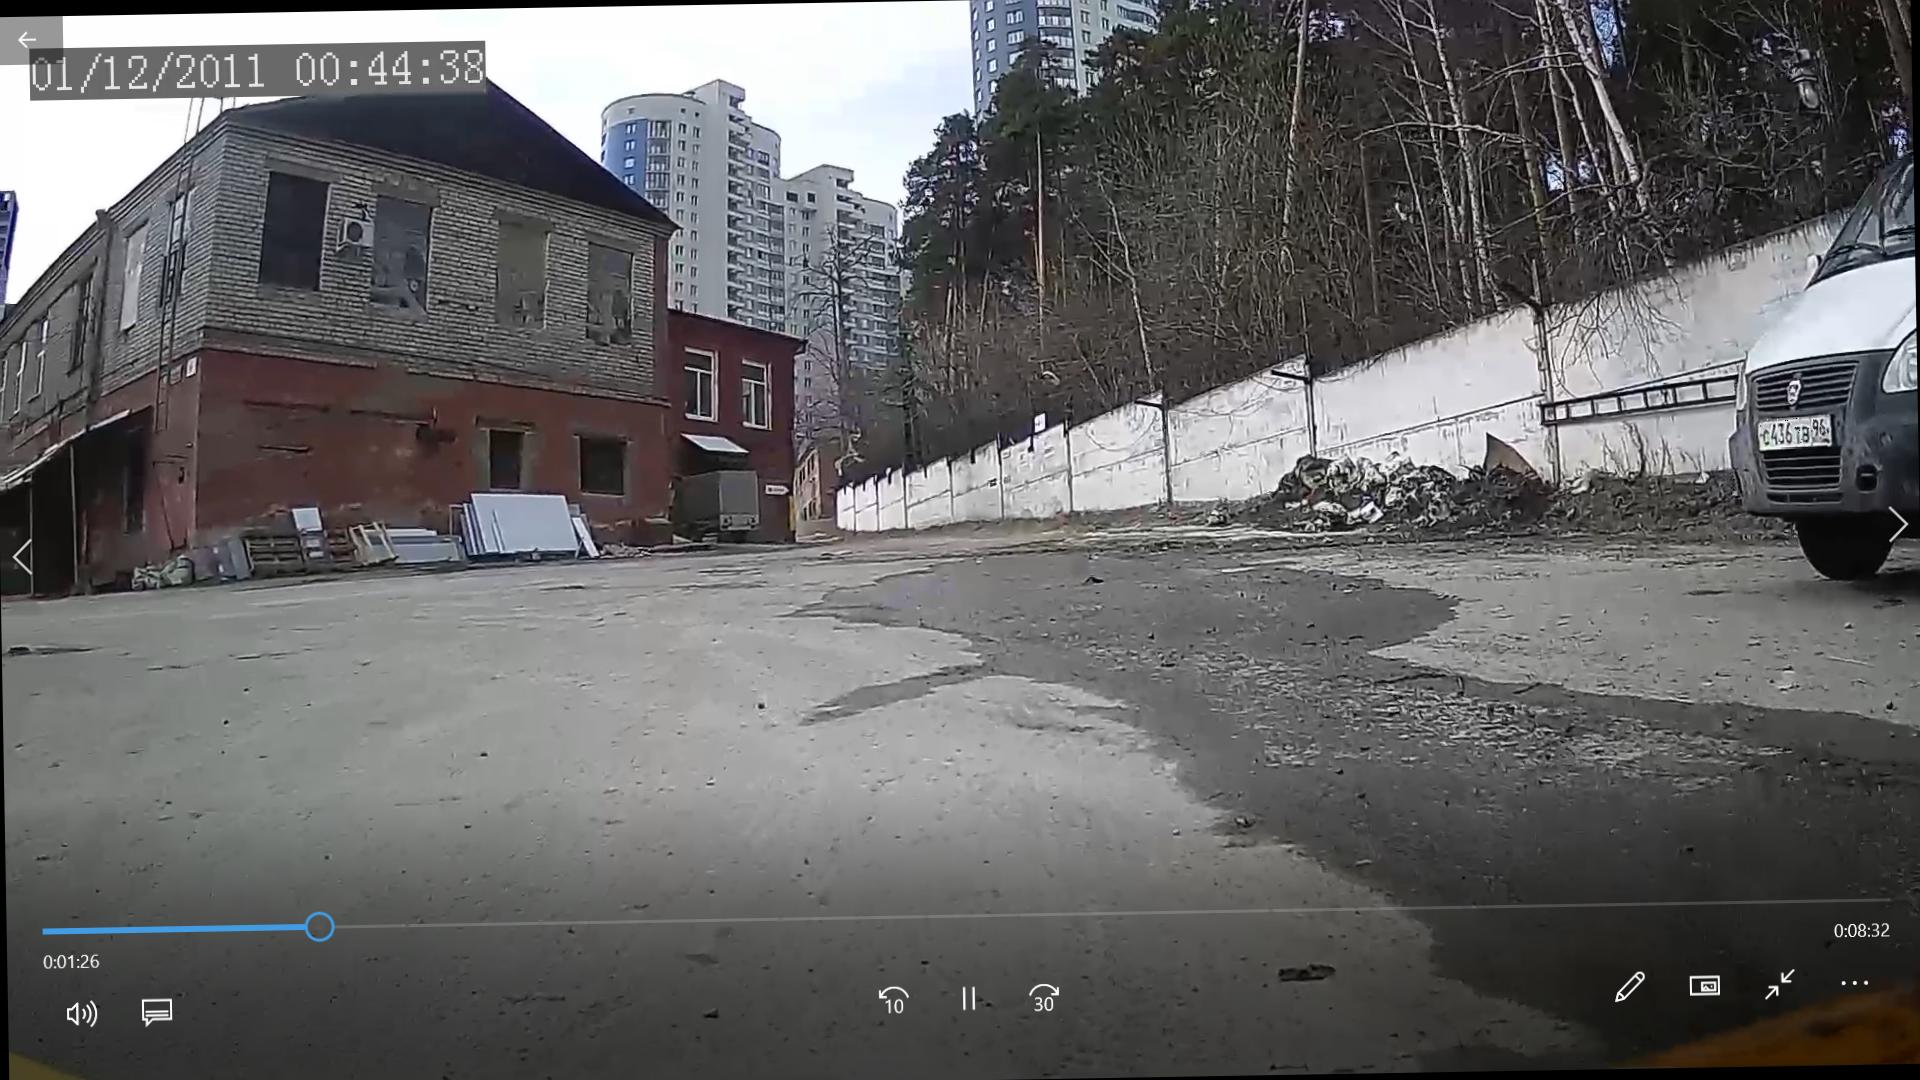plate: (1762, 418, 1829, 450)
